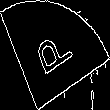P_SW: (32, 26, 78, 84)
